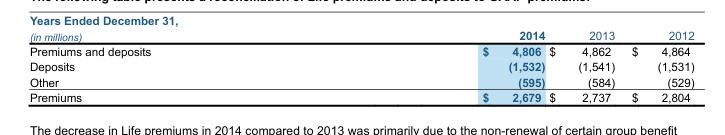table: (28, 28, 693, 103)
table column: (28, 28, 316, 103), (316, 28, 546, 103), (546, 28, 622, 103), (622, 28, 693, 103)
table column header: (28, 28, 693, 42)
table row: (28, 42, 693, 58), (28, 73, 693, 89), (28, 58, 693, 73), (28, 28, 693, 42), (28, 89, 693, 103)
